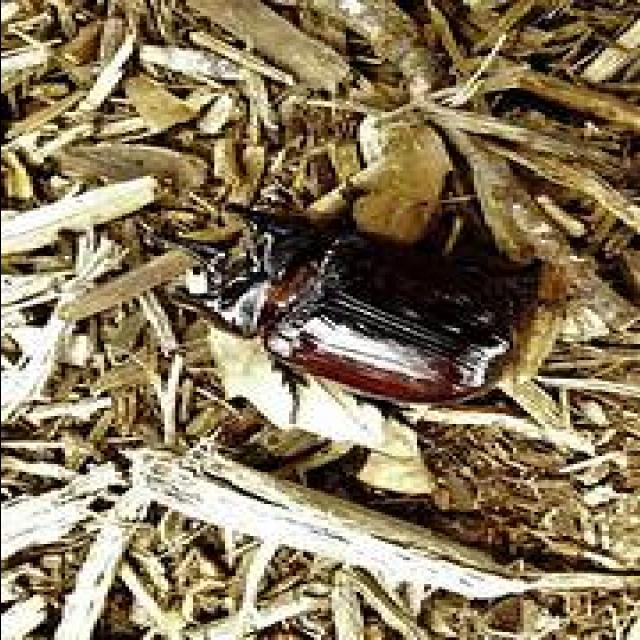Rhino-beetle: (137, 198, 549, 412)
